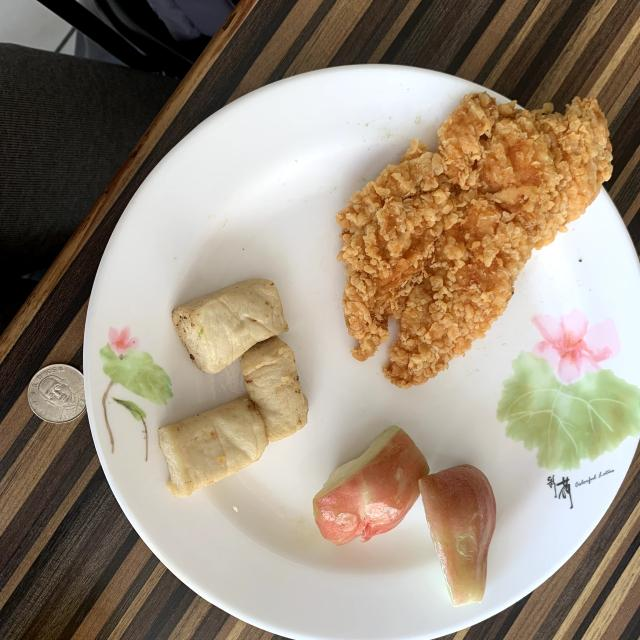coin: (28, 364, 85, 424)
creamy tofu -without sauce-: (159, 279, 308, 498)
fried chicken cutlet: (338, 92, 612, 388)
